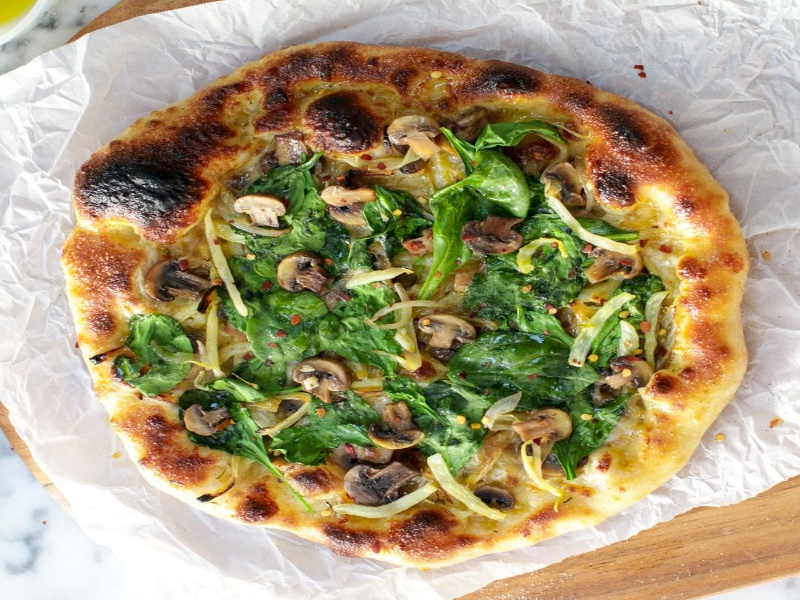champignon: (381, 109, 446, 172), (285, 352, 359, 405), (413, 311, 478, 361), (270, 251, 338, 297), (512, 404, 574, 451), (232, 192, 293, 234)
